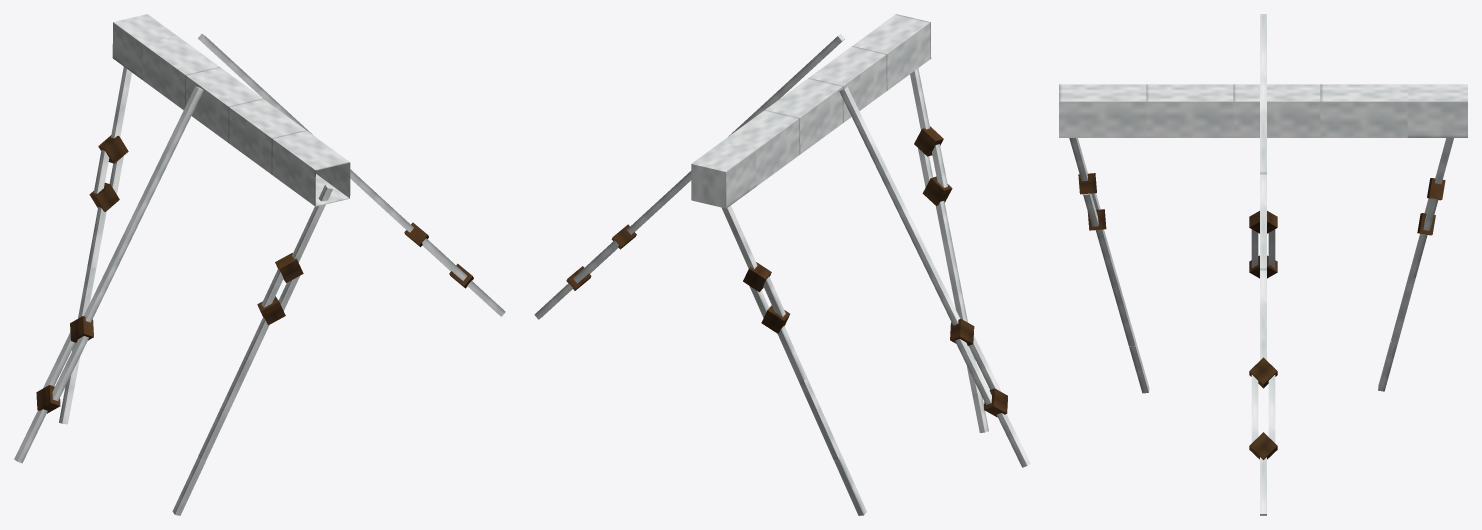
File: cog_segel_1_0.obj
3 renders of one model, left to right at view 1: azimuth 30°, elevation 25°; view 2: azimuth 150°, elevation 25°; view 3: azimuth 270°, elevation 25°, orthographic.
Visible parts, largest first — view 1: cube; view 2: cube; view 3: cube.
Part boxes in pixels (x1,y1,x2,y2): cube: (14, 14, 505, 515); cube: (534, 14, 1030, 515); cube: (1059, 14, 1467, 515).
Bounding box in the file's own units: 5.3 × 4.32 × 3.81.
